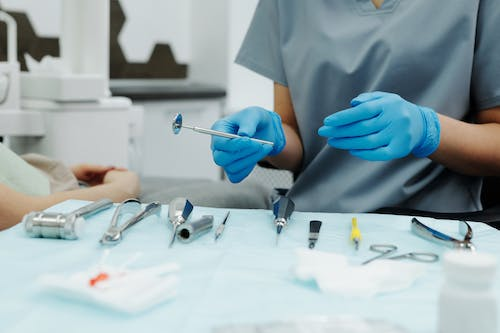blood: (87, 269, 111, 292)
